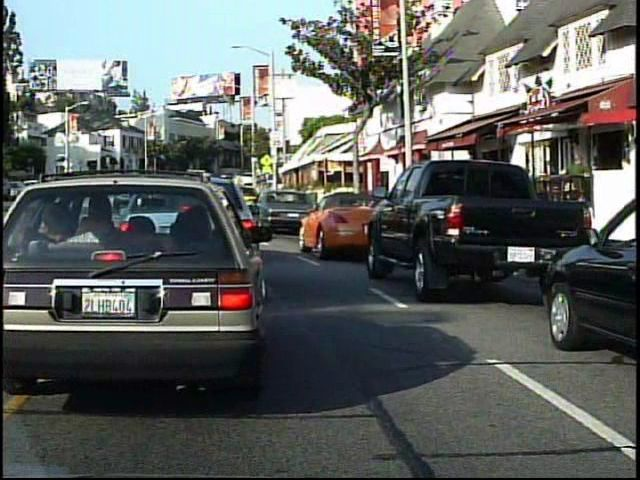person: (562, 149, 594, 224)
